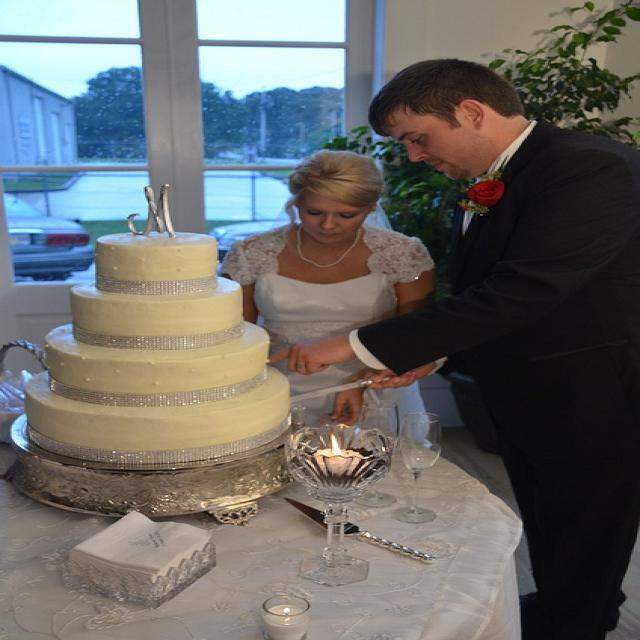Vehicle: (2, 190, 101, 283), (211, 209, 294, 264)
